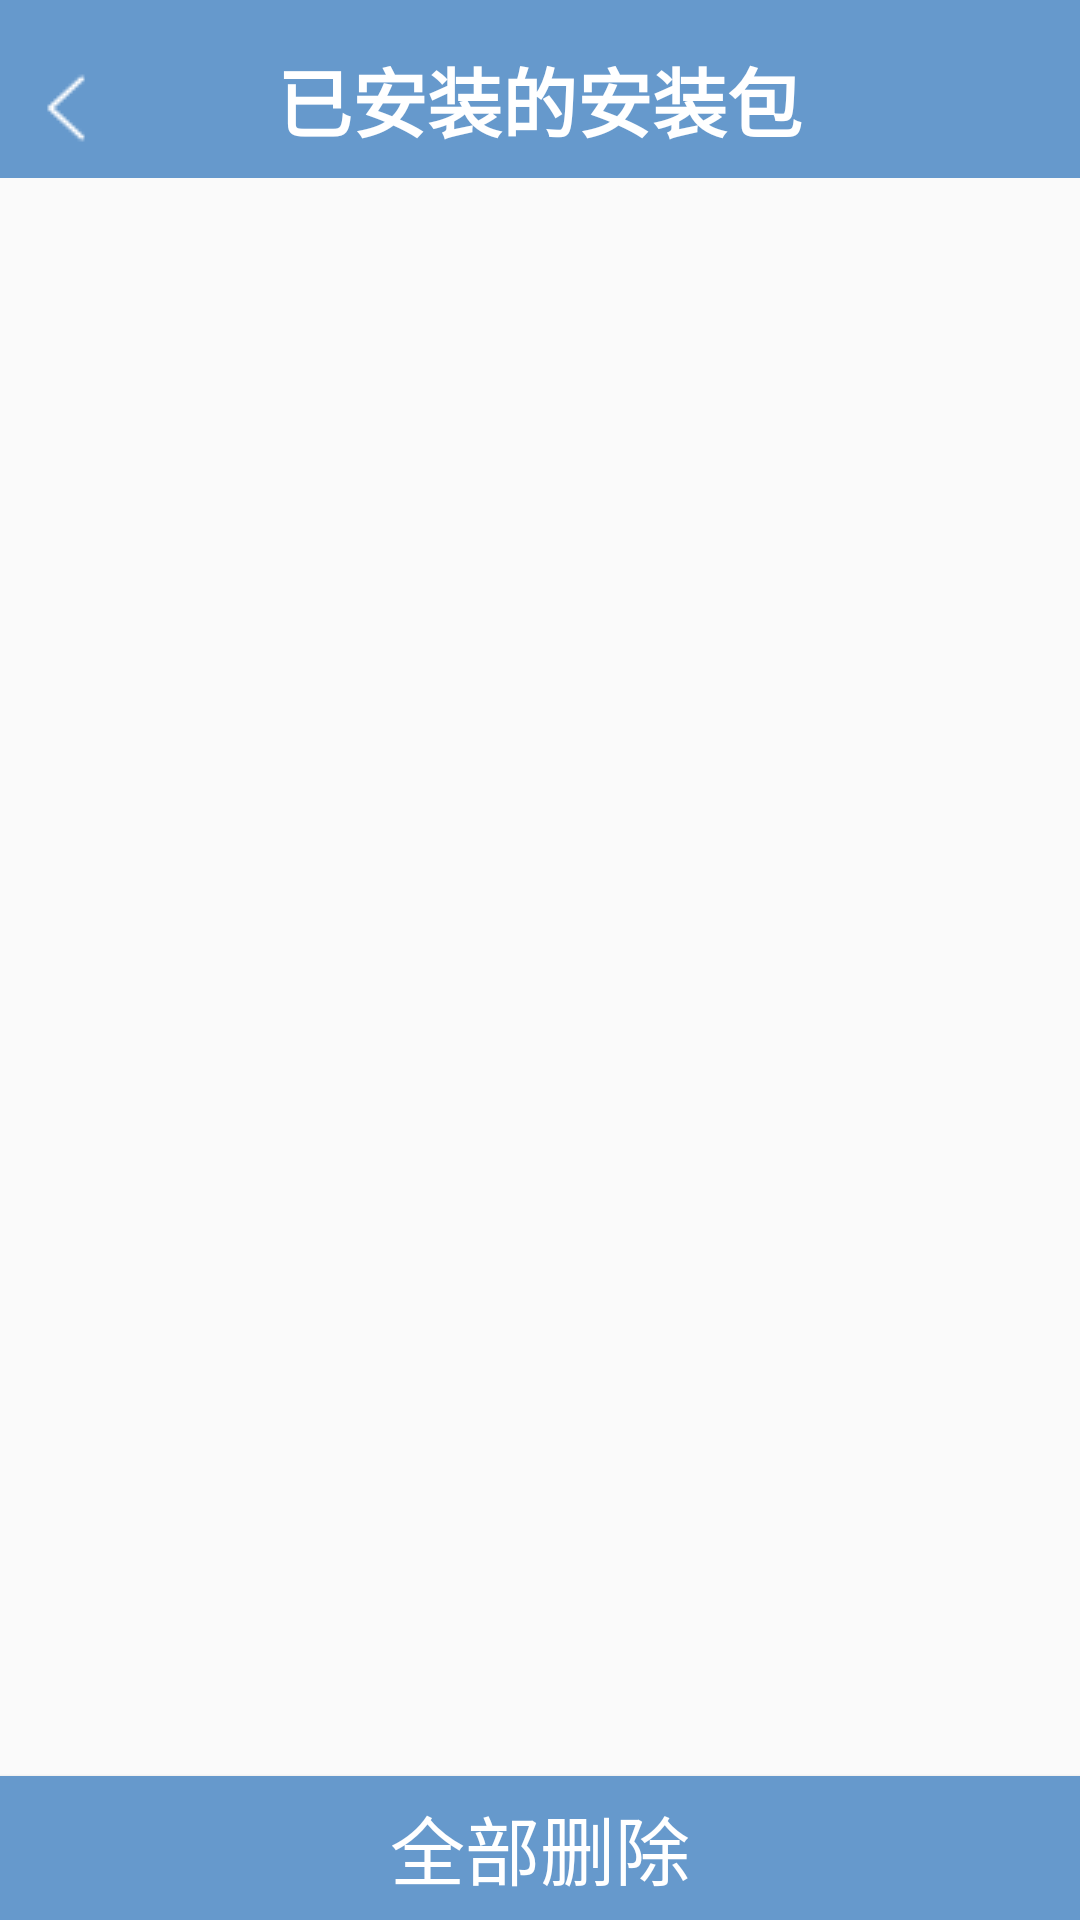

Screen size 1080w x 1920h. Icon name, then its box in pixels as bbox=(x1, y1, x2, y2):
go back: bbox=(47, 75, 85, 141)
